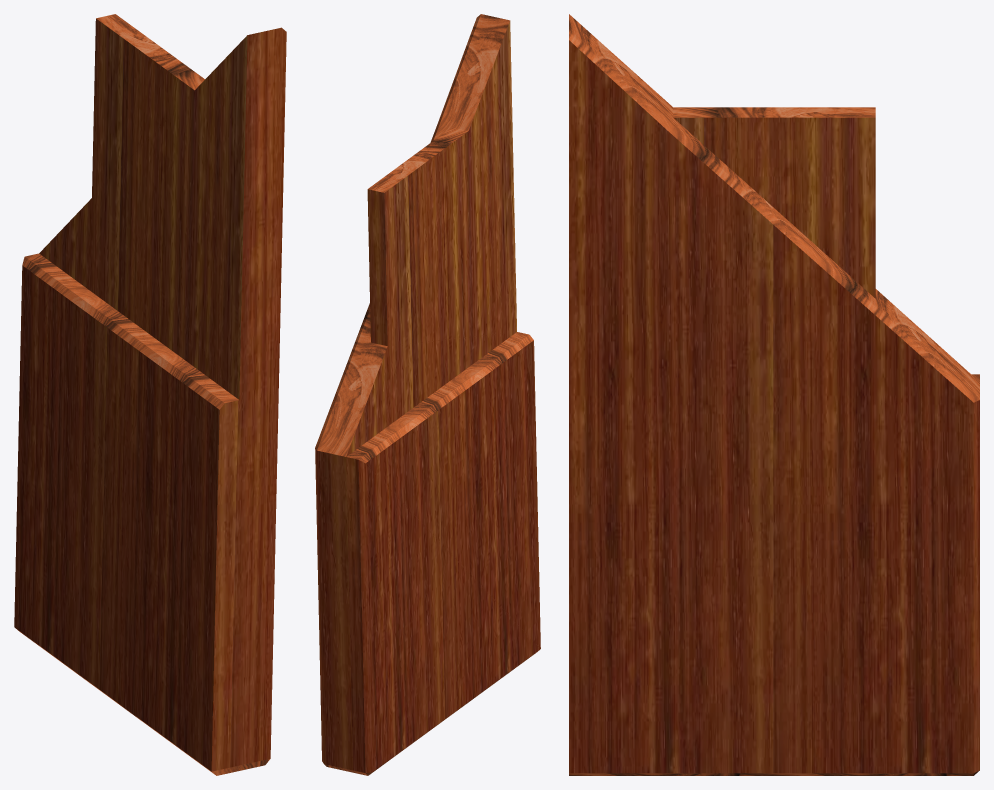
Rendered from GMY_J_ceyatou_01_01.FBX.
The picture shows the model from 3 angles, left to right: view 1: azimuth 30°, elevation 25°; view 2: azimuth 150°, elevation 25°; view 3: azimuth 270°, elevation 25°; orthographic projection. The views are drawn at different scales.
Visible parts, largest first — view 1: GMY_J_ceyatou_01_01; view 2: GMY_J_ceyatou_01_01; view 3: GMY_J_ceyatou_01_01.
Part boxes in pixels (x1,y1,x2,y2): GMY_J_ceyatou_01_01: (14,14,286,775); GMY_J_ceyatou_01_01: (315,14,540,775); GMY_J_ceyatou_01_01: (569,14,979,775).
Bounding box in the file's own units: 1.02 × 9.51 × 4.7.
